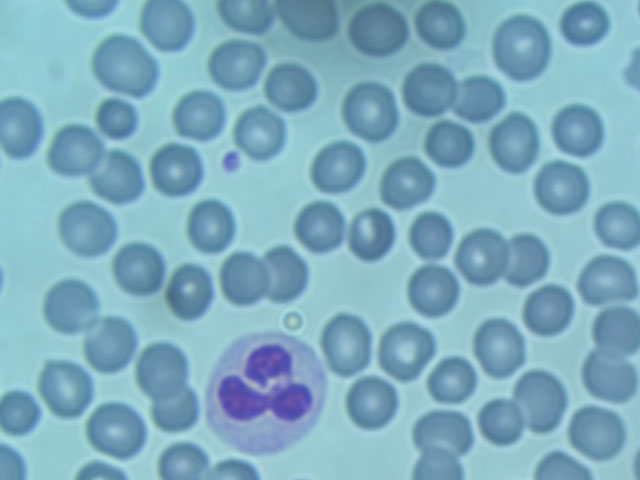Platelets: (217, 149, 243, 174)
RBC: (491, 14, 556, 82), (91, 35, 157, 95), (348, 2, 410, 59), (307, 138, 366, 197), (319, 315, 377, 373), (344, 82, 401, 140), (473, 317, 526, 379), (403, 60, 458, 119), (36, 359, 98, 411), (84, 404, 145, 456), (232, 103, 288, 159), (264, 60, 320, 116), (208, 38, 264, 94), (487, 116, 545, 169), (517, 368, 567, 428), (456, 227, 508, 283), (380, 154, 432, 210), (424, 118, 477, 172), (1, 95, 48, 155), (346, 204, 398, 257), (503, 234, 557, 285), (522, 287, 576, 338), (574, 406, 628, 457), (582, 351, 636, 402), (586, 303, 640, 354), (579, 250, 633, 301), (534, 162, 588, 213), (552, 105, 606, 156), (404, 208, 458, 259), (408, 264, 462, 315), (381, 321, 435, 372), (343, 378, 397, 429), (423, 355, 477, 406), (414, 407, 468, 458), (145, 386, 199, 437), (134, 342, 188, 393), (85, 319, 139, 370), (40, 282, 94, 333), (60, 204, 114, 255), (111, 242, 165, 293), (165, 265, 219, 316), (182, 202, 236, 253), (46, 126, 100, 177), (557, 1, 611, 51), (150, 146, 204, 196), (477, 393, 524, 448), (589, 198, 640, 248), (173, 90, 224, 140), (260, 248, 306, 303), (295, 201, 350, 247), (219, 252, 266, 305), (139, 1, 193, 46), (94, 98, 141, 141)
WBC: (202, 331, 330, 457)
